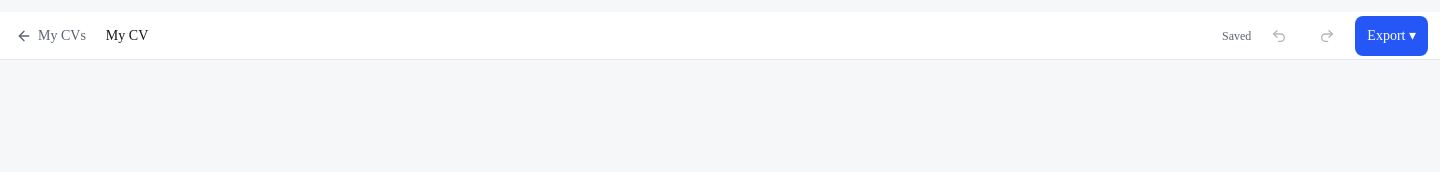
Test: EditorTopBar › keeps an unavailable Undo focusable, inert, and explains why in its tooltip
Click the button named "Undo" at {"x": 1279, "y": 36}, box top-left (1259, 16), bottom-right (1299, 56)
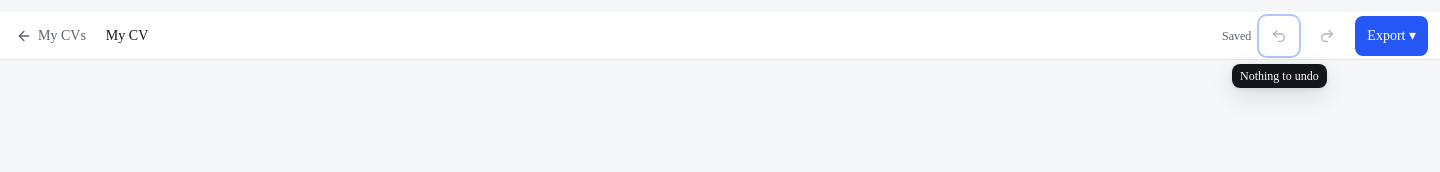
Result: the tooltip "Nothing to undo" is shown at top-left (1232, 64), bottom-right (1327, 88)
